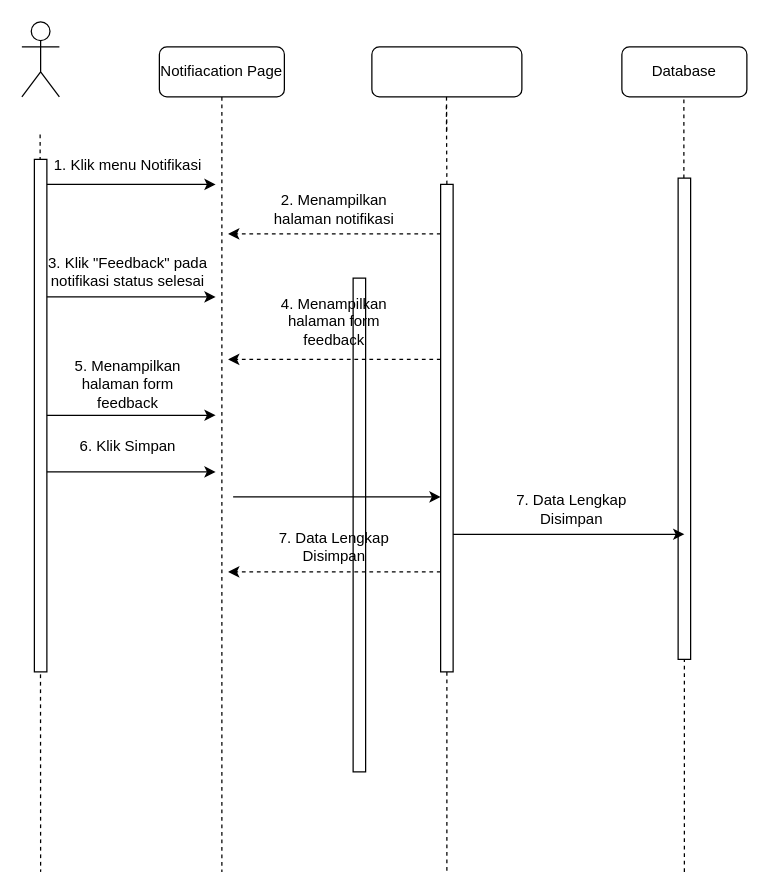
Image size: 769x895. Some labels were removed from this diagram. Each missing label, with the centre of its shape:
Sistem: point (446, 71)
User: point (40, 59)
